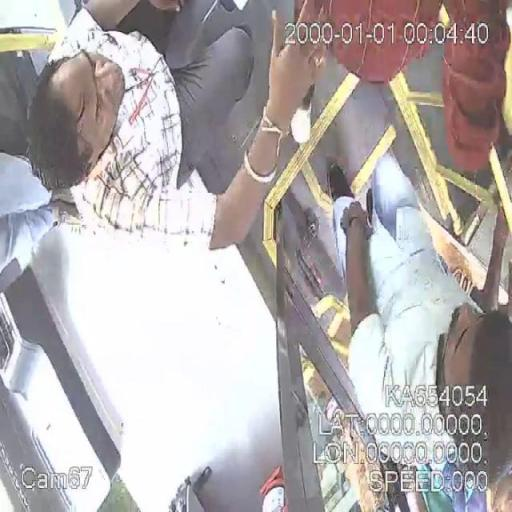persona: (26, 2, 330, 258), (325, 150, 511, 511)
